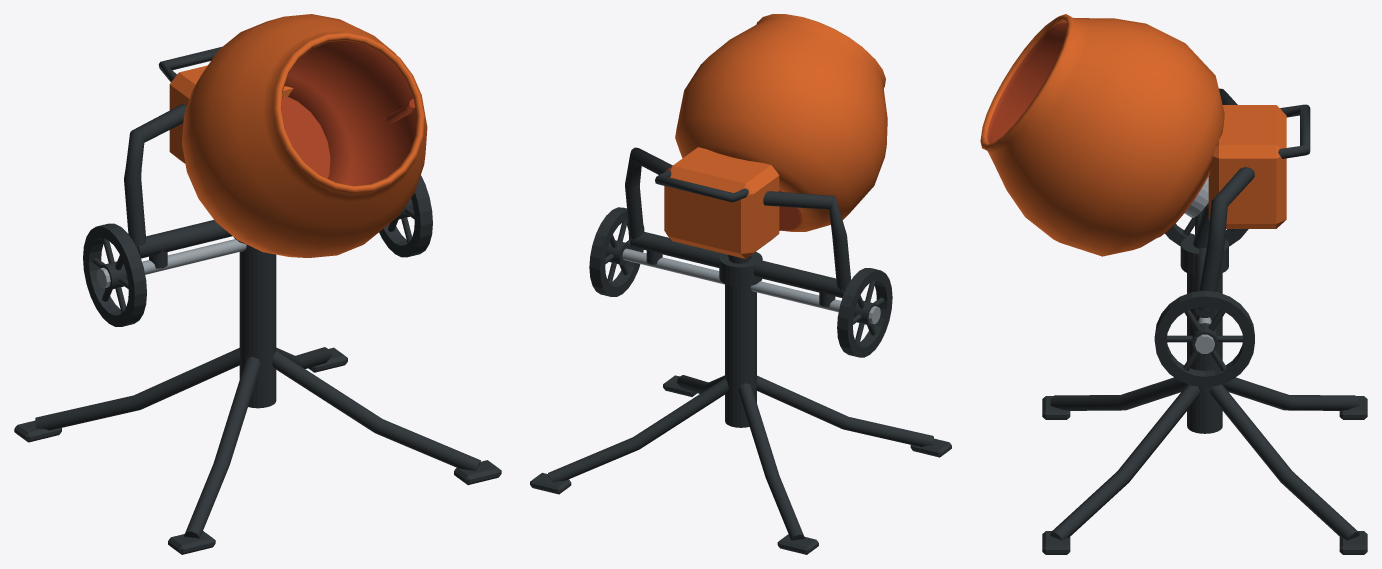
Rendered from A-NEW-20261026-DRUM-CONCRETE-MIXER-001_LOD2_R2.glb.
3 renders of one model, left to right at view 1: azimuth 30°, elevation 25°; view 2: azimuth 150°, elevation 25°; view 3: azimuth 270°, elevation 25°, orthographic. The views are drawn at different scales.
Parts seen in each view (by area): view 1: open drum continuous wall and rolled lip, stand central socket, splayed stand leg 3, open spoke wheel rim -1, splayed stand leg 1, splayed stand leg 2, side frame -1, closed rear drum disk, open spoke wheel rim 1, upper horizontal support, rear enclosed drive cover, wheel axle (+4 smaller); view 2: open drum continuous wall and rolled lip, rear enclosed drive cover, stand central socket, upper horizontal support, splayed stand leg 0, open spoke wheel rim -1, splayed stand leg 2, splayed stand leg 1, side frame -1, open spoke wheel rim 1, wheel axle, side frame 1 (+5 smaller); view 3: open drum continuous wall and rolled lip, rear enclosed drive cover, open spoke wheel rim 1, splayed stand leg 0, splayed stand leg 3, side frame 1, stand central socket, splayed stand leg 1, splayed stand leg 2, rear carrying handle, upper stand collar, open spoke wheel rim -1 (+4 smaller).
Part boxes in pixels (<box>): open drum continuous wall and rolled lip: <box>182,14,427,257</box>; stand central socket: <box>239,244,276,408</box>; splayed stand leg 3: <box>272,351,480,471</box>; open spoke wheel rim -1: <box>83,223,146,326</box>; splayed stand leg 1: <box>35,348,239,430</box>; splayed stand leg 2: <box>184,356,261,538</box>; side frame -1: <box>124,103,186,251</box>; closed rear drum disk: <box>281,97,330,178</box>; open spoke wheel rim 1: <box>379,175,432,257</box>; upper horizontal support: <box>138,220,232,258</box>; rear enclosed drive cover: <box>169,65,293,163</box>; wheel axle: <box>98,239,246,284</box>; open drum continuous wall and rolled lip: <box>675,14,887,231</box>; rear enclosed drive cover: <box>664,147,779,258</box>; stand central socket: <box>725,284,756,427</box>; upper horizontal support: <box>630,231,844,297</box>; splayed stand leg 0: <box>548,378,728,482</box>; open spoke wheel rim -1: <box>837,268,892,357</box>; splayed stand leg 2: <box>756,375,933,446</box>; splayed stand leg 1: <box>738,383,804,540</box>; side frame -1: <box>763,191,850,291</box>; open spoke wheel rim 1: <box>589,207,644,296</box>; wheel axle: <box>622,248,878,319</box>; side frame 1: <box>625,147,672,239</box>; open drum continuous wall and rolled lip: <box>980,14,1224,256</box>; rear enclosed drive cover: <box>1208,105,1286,228</box>; open spoke wheel rim 1: <box>1154,290,1254,387</box>; splayed stand leg 0: <box>1210,384,1359,540</box>; splayed stand leg 3: <box>1050,384,1199,540</box>; side frame 1: <box>1198,167,1254,311</box>; stand central socket: <box>1187,273,1222,433</box>; splayed stand leg 1: <box>1222,377,1359,410</box>; splayed stand leg 2: <box>1050,377,1186,410</box>; rear carrying handle: <box>1278,104,1310,158</box>; upper stand collar: <box>1180,235,1228,275</box>; open spoke wheel rim -1: <box>1165,223,1248,246</box>.
Bounding box in the file's own units: 0.97 × 1.36 × 1.04.
